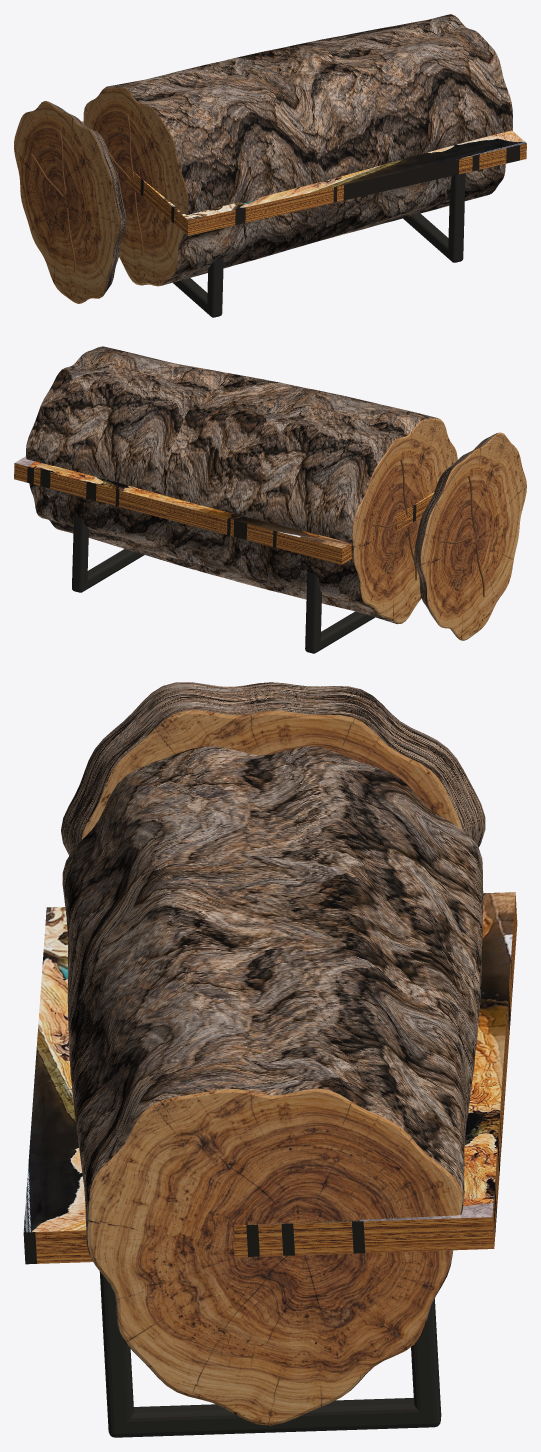
The model's file is wood-journey.glb.
3 views of the same model, one above another, from view 1: azimuth 30°, elevation 25°; view 2: azimuth 150°, elevation 25°; view 3: azimuth 270°, elevation 25° (orthographic). The views are drawn at different scales.
Parts seen in each view (by area): view 1: SculptedOliveTrunk, CrossSectionDisc, LiveTableEdge, TurquoiseRiverTabletop, SteelLeg_1.48_A, SteelLeg_1.48_Rail, SteelLeg_-1.48_A, SteelLeg_-1.48_Rail; view 2: SculptedOliveTrunk, CrossSectionDisc, LiveTableEdge, TurquoiseRiverTabletop, SteelLeg_-1.48_B, SteelLeg_1.48_B, SteelLeg_1.48_Rail, SteelLeg_-1.48_Rail; view 3: SculptedOliveTrunk, CrossSectionDisc, TurquoiseRiverTabletop, LiveTableEdge, SteelLeg_1.48_Rail, SteelLeg_1.48_A, SteelLeg_1.48_B.
Boxes of the visible parts, x1=… form: SculptedOliveTrunk: x1=83, y1=14, x2=512, y2=286; CrossSectionDisc: x1=14, y1=101, x2=126, y2=303; LiveTableEdge: x1=126, y1=143, x2=526, y2=235; TurquoiseRiverTabletop: x1=81, y1=121, x2=526, y2=220; SteelLeg_1.48_A: x1=448, y1=173, x2=465, y2=256; SteelLeg_1.48_Rail: x1=403, y1=213, x2=463, y2=262; SteelLeg_-1.48_A: x1=207, y1=258, x2=223, y2=311; SteelLeg_-1.48_Rail: x1=173, y1=278, x2=222, y2=317; SculptedOliveTrunk: x1=26, y1=346, x2=457, y2=624; CrossSectionDisc: x1=414, y1=432, x2=526, y2=640; LiveTableEdge: x1=14, y1=463, x2=433, y2=564; TurquoiseRiverTabletop: x1=15, y1=456, x2=434, y2=548; SteelLeg_-1.48_B: x1=305, y1=572, x2=321, y2=646; SteelLeg_1.48_B: x1=72, y1=516, x2=88, y2=586; SteelLeg_1.48_Rail: x1=72, y1=549, x2=144, y2=592; SteelLeg_-1.48_Rail: x1=305, y1=611, x2=374, y2=653; SculptedOliveTrunk: x1=62, y1=746, x2=483, y2=1425; CrossSectionDisc: x1=61, y1=682, x2=485, y2=855; TurquoiseRiverTabletop: x1=23, y1=892, x2=515, y2=1232; LiveTableEdge: x1=23, y1=894, x2=517, y2=1264; SteelLeg_1.48_Rail: x1=108, y1=1398, x2=441, y2=1437; SteelLeg_1.48_A: x1=99, y1=1271, x2=133, y2=1425; SteelLeg_1.48_B: x1=411, y1=1298, x2=440, y2=1415.
Size of the model in its own units: 5.06 by 2.47 by 2.67.
8 materials, 5 textured.
